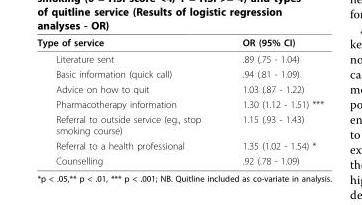table: (36, 36, 323, 166)
table column: (36, 36, 221, 166), (221, 36, 323, 166)
table column header: (36, 36, 323, 50)
table row: (36, 111, 323, 137), (36, 50, 323, 66), (36, 66, 323, 81), (36, 81, 323, 96), (36, 96, 323, 111), (36, 137, 323, 152), (36, 36, 323, 50), (36, 152, 323, 166)
